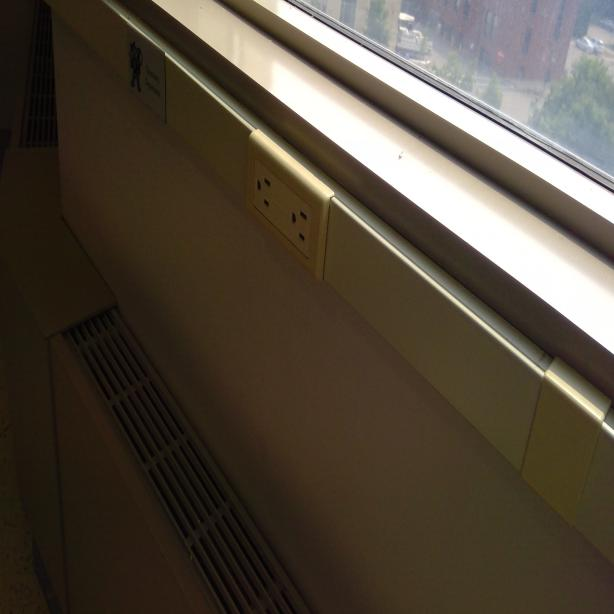typeb: (287, 187, 312, 256), (253, 156, 273, 219)
